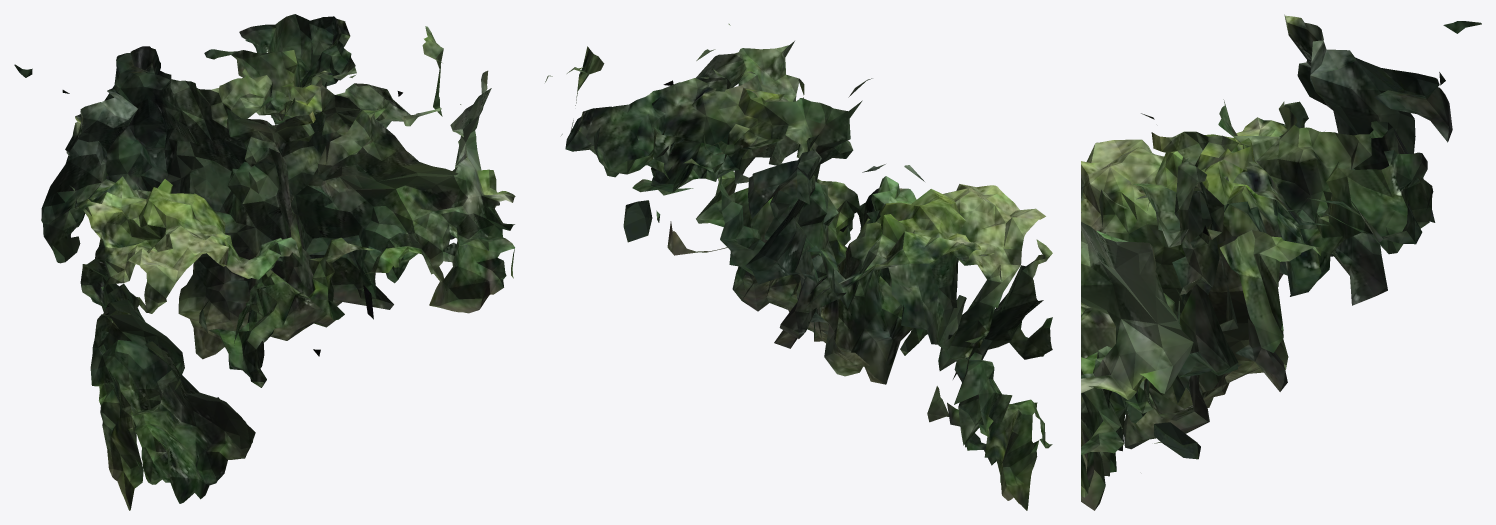
3 views of the same model, side by side, from view 1: azimuth 30°, elevation 25°; view 2: azimuth 150°, elevation 25°; view 3: azimuth 270°, elevation 25° (orthographic). The views are drawn at different scales.
Bounding box in the file's own units: 26.11 × 23.92 × 18.93.
Materials: 5 (5 with a texture image).
